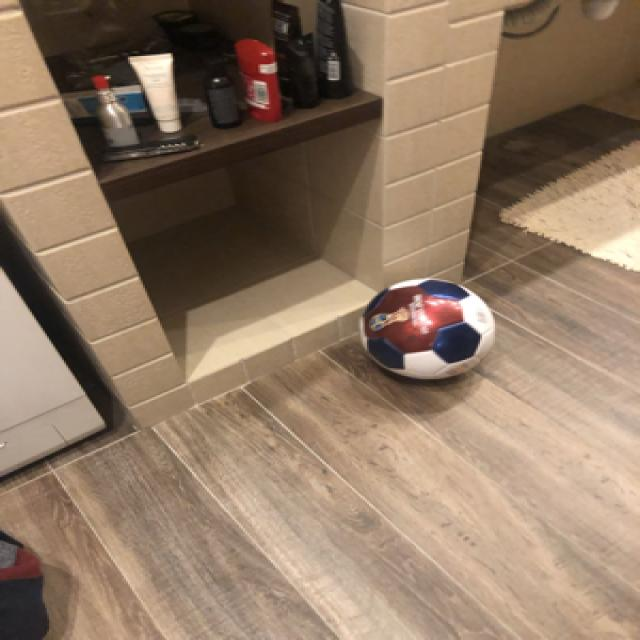soccer_ball: (354, 274, 495, 381)
